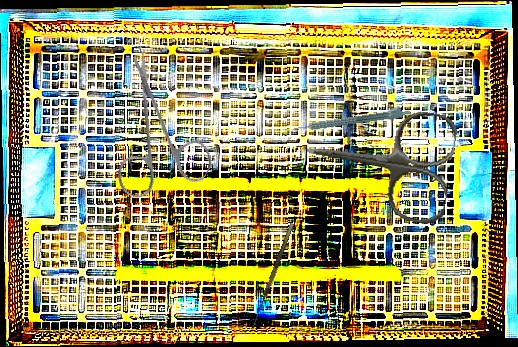Handpiece: (292, 103, 411, 134)
Hook Surgical: (250, 222, 300, 332)
Iris Scissors: (70, 48, 244, 225), (298, 94, 460, 227)
